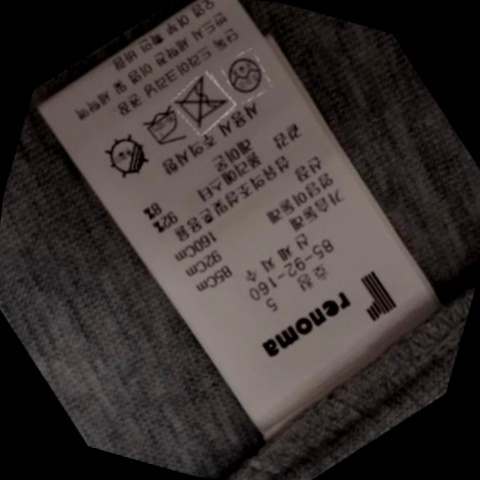DN_wash: (172, 74, 236, 132)
dry_clean_petrol_only: (222, 49, 273, 99)
iron_low: (136, 102, 192, 154)
line_dry_in_shade: (100, 131, 161, 185)
